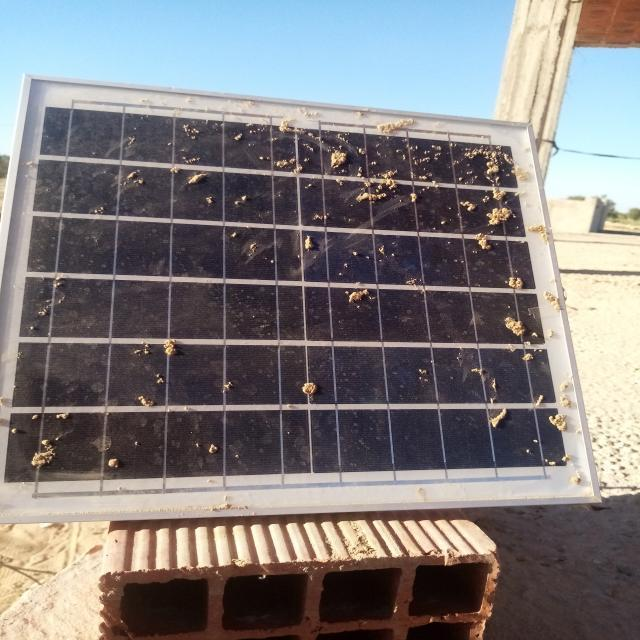Anomaly Solar Panel: (3, 93, 580, 505)
Surface Contaminant: (109, 112, 531, 321), (6, 335, 240, 478), (450, 318, 569, 474), (295, 381, 321, 398)
